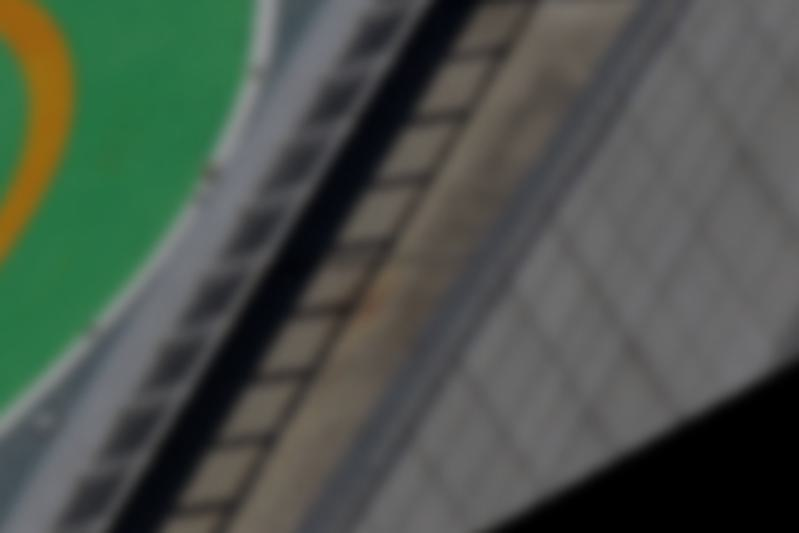Apron: (1, 1, 100, 269)
